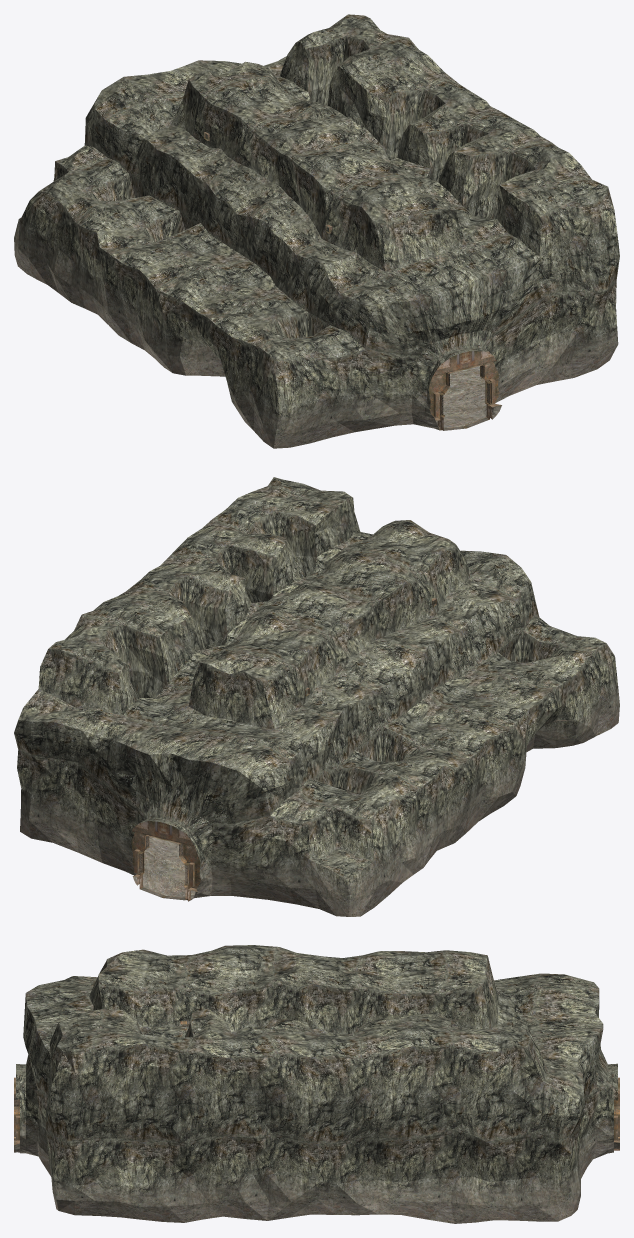
File: poi_all_bunker_allum_mine_r62_largeroom62_mesh_r62.fbx
The picture shows the model from 3 angles, top to bottom: view 1: azimuth 30°, elevation 25°; view 2: azimuth 150°, elevation 25°; view 3: azimuth 270°, elevation 25°; orthographic projection. The views are drawn at different scales.
Visible parts, largest first — view 1: mesh_node; view 2: mesh_node; view 3: mesh_node.
Boxes of the visible parts, box(x1,y1,x2,y2) form: mesh_node: box(14, 14, 619, 448); mesh_node: box(14, 477, 619, 916); mesh_node: box(14, 945, 619, 1223).
Bounding box in the file's own units: 33.35 × 17.13 × 50.
